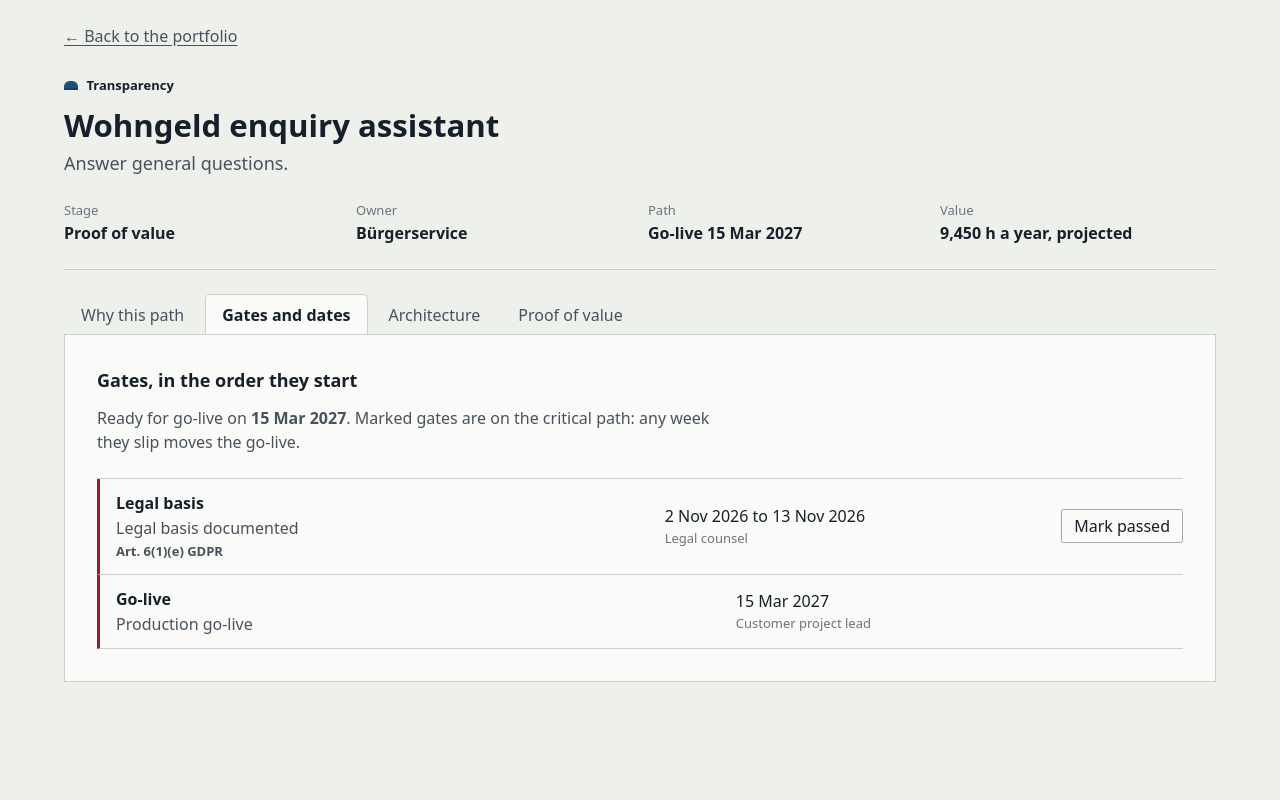
Test: use case dossier › lets the architect pass a gate, which replans
Step 1. Click the button "Mark passed" → coordinates (1122, 526), box [1061,509,1183,543]
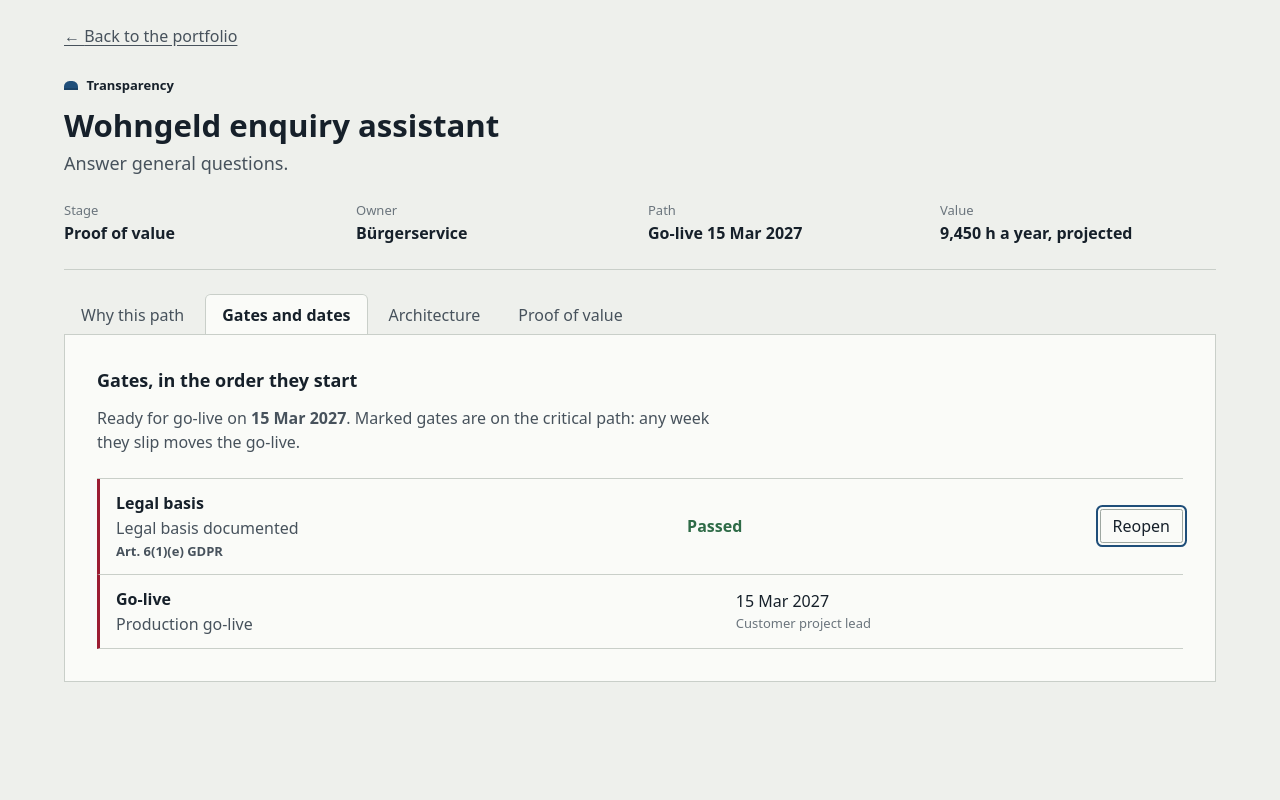
expect the text "Passed" is shown: met, box [687,515,742,537]
